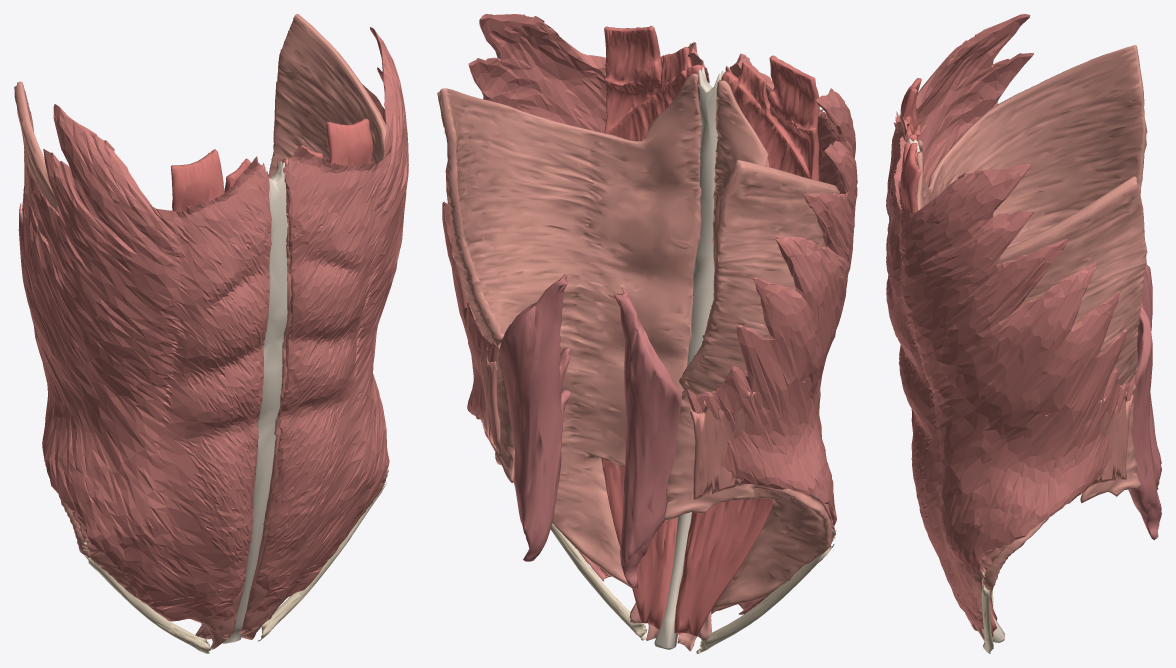
The model's file is z-anatomy-abdominal-muscles.glb.
3 renders of one model, left to right at view 1: azimuth 30°, elevation 25°; view 2: azimuth 150°, elevation 25°; view 3: azimuth 270°, elevation 25°, orthographic. The views are drawn at different scales.
Parts seen in each view (by area): view 1: external-abdominal-obliques-external-abdominal-oblique-muscl (×2), transversus-abdominis-transversus-abdominis-muscle-left__Tra, linea-alba__Linea alba, internal-abdominal-obliques-internal-abdominal-oblique-muscl (×2), rectus-abdominis-rectus-abdominis-muscle-right__Rectus abdom, transversus-abdominis-transversus-abdominis-muscle-right__Tr, rectus-abdominis-rectus-abdominis-muscle-left__Rectus abdomi, inguinal-ligaments-inguinal-ligament-right__Inguinal ligamen, inguinal-ligaments-inguinal-ligament-left__Inguinal ligament; view 2: transversus-abdominis-transversus-abdominis-muscle-left__Tra, external-abdominal-obliques-external-abdominal-oblique-muscl (×2), transversus-abdominis-transversus-abdominis-muscle-right__Tr, rectus-abdominis-rectus-abdominis-muscle-right__Rectus abdom, quadratus-lumborum-quadratus-lumborum-muscle-left__Quadratus, rectus-abdominis-rectus-abdominis-muscle-left__Rectus abdomi, quadratus-lumborum-quadratus-lumborum-muscle-right__Quadratu, linea-alba__Linea alba, internal-abdominal-obliques-internal-abdominal-oblique-muscl (×2), inguinal-ligaments-inguinal-ligament-right__Inguinal ligamen, inguinal-ligaments-inguinal-ligament-left__Inguinal ligament; view 3: external-abdominal-obliques-external-abdominal-oblique-muscl (×2), transversus-abdominis-transversus-abdominis-muscle-right__Tr, transversus-abdominis-transversus-abdominis-muscle-left__Tra, quadratus-lumborum-quadratus-lumborum-muscle-left__Quadratus, internal-abdominal-obliques-internal-abdominal-oblique-muscl, rectus-abdominis-rectus-abdominis-muscle-left__Rectus abdomi, quadratus-lumborum-quadratus-lumborum-muscle-right__Quadratu, rectus-abdominis-rectus-abdominis-muscle-right__Rectus abdom, inguinal-ligaments-inguinal-ligament-left__Inguinal ligament.
Part boxes in pixels (left/top/right/bottom): external-abdominal-obliques-external-abdominal-oblique-muscl (×2): left=18, top=27, right=408, bottom=621; transversus-abdominis-transversus-abdominis-muscle-left__Tra: left=241, top=14, right=386, bottom=639; linea-alba__Linea alba: left=222, top=161, right=288, bottom=643; internal-abdominal-obliques-internal-abdominal-oblique-muscl (×2): left=47, top=157, right=388, bottom=638; rectus-abdominis-rectus-abdominis-muscle-right__Rectus abdom: left=171, top=149, right=250, bottom=624; transversus-abdominis-transversus-abdominis-muscle-right__Tr: left=14, top=81, right=225, bottom=649; rectus-abdominis-rectus-abdominis-muscle-left__Rectus abdomi: left=269, top=118, right=372, bottom=492; inguinal-ligaments-inguinal-ligament-right__Inguinal ligamen: left=83, top=542, right=211, bottom=653; inguinal-ligaments-inguinal-ligament-left__Inguinal ligament: left=257, top=468, right=388, bottom=641; transversus-abdominis-transversus-abdominis-muscle-left__Tra: left=437, top=73, right=701, bottom=640; external-abdominal-obliques-external-abdominal-oblique-muscl (×2): left=442, top=14, right=857, bottom=614; transversus-abdominis-transversus-abdominis-muscle-right__Tr: left=663, top=80, right=839, bottom=651; rectus-abdominis-rectus-abdominis-muscle-right__Rectus abdom: left=674, top=55, right=819, bottom=636; quadratus-lumborum-quadratus-lumborum-muscle-left__Quadratus: left=498, top=274, right=571, bottom=561; rectus-abdominis-rectus-abdominis-muscle-left__Rectus abdomi: left=601, top=25, right=702, bottom=629; quadratus-lumborum-quadratus-lumborum-muscle-right__Quadratu: left=614, top=288, right=681, bottom=587; linea-alba__Linea alba: left=654, top=66, right=723, bottom=649; internal-abdominal-obliques-internal-abdominal-oblique-muscl (×2): left=464, top=60, right=835, bottom=614; inguinal-ligaments-inguinal-ligament-right__Inguinal ligamen: left=696, top=529, right=836, bottom=653; inguinal-ligaments-inguinal-ligament-left__Inguinal ligament: left=550, top=523, right=647, bottom=640; external-abdominal-obliques-external-abdominal-oblique-muscl (×2): left=886, top=14, right=1135, bottom=629; transversus-abdominis-transversus-abdominis-muscle-right__Tr: left=917, top=45, right=1147, bottom=248; transversus-abdominis-transversus-abdominis-muscle-left__Tra: left=916, top=151, right=1147, bottom=648; quadratus-lumborum-quadratus-lumborum-muscle-left__Quadratus: left=1128, top=302, right=1161, bottom=539; internal-abdominal-obliques-internal-abdominal-oblique-muscl: left=916, top=165, right=1133, bottom=631; rectus-abdominis-rectus-abdominis-muscle-left__Rectus abdomi: left=899, top=142, right=996, bottom=636; quadratus-lumborum-quadratus-lumborum-muscle-right__Quadratu: left=1141, top=265, right=1161, bottom=489; rectus-abdominis-rectus-abdominis-muscle-right__Rectus abdom: left=900, top=78, right=997, bottom=620; inguinal-ligaments-inguinal-ligament-left__Inguinal ligament: left=981, top=572, right=993, bottom=653.
Bounding box in the file's own units: 0.2819 × 0.4401 × 0.1992.
